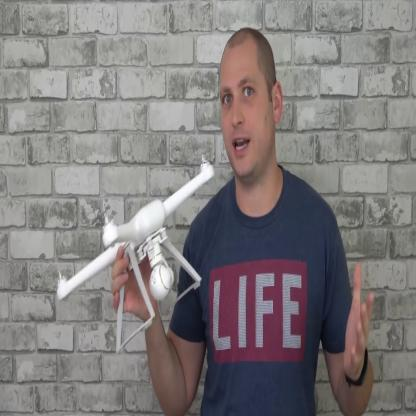drone: (55, 155, 222, 326)
